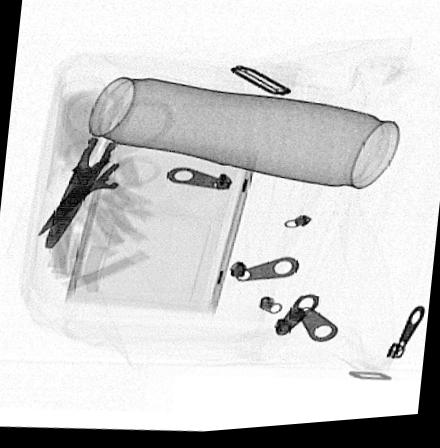Scissors: (44, 89, 176, 250), (42, 138, 159, 236)
